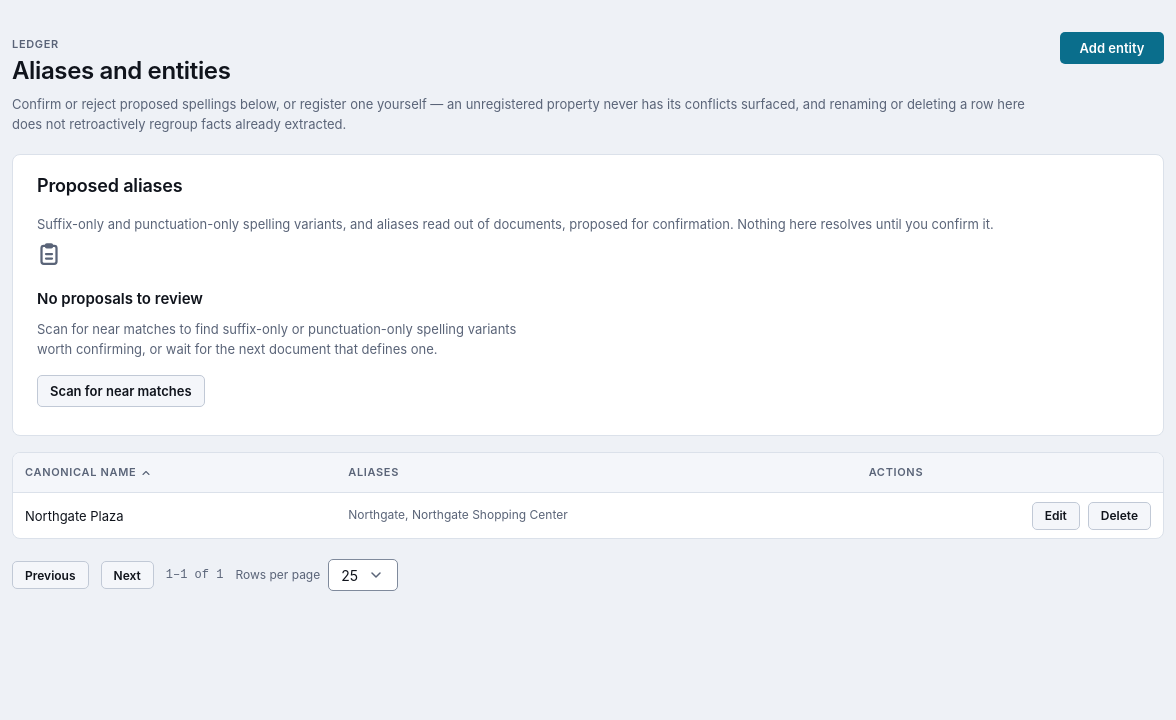
CanonicalEntitiesPage › shows a load error verbatim, but leaves an already-loaded row on screen on a later refresh failure
Expected: the text "Northgate Plaza" is shown, [13,493,336,538]
Click the button with aria-label "Sort by Canonical name, sorted ascending" at (89,473), box [25,465,152,480]
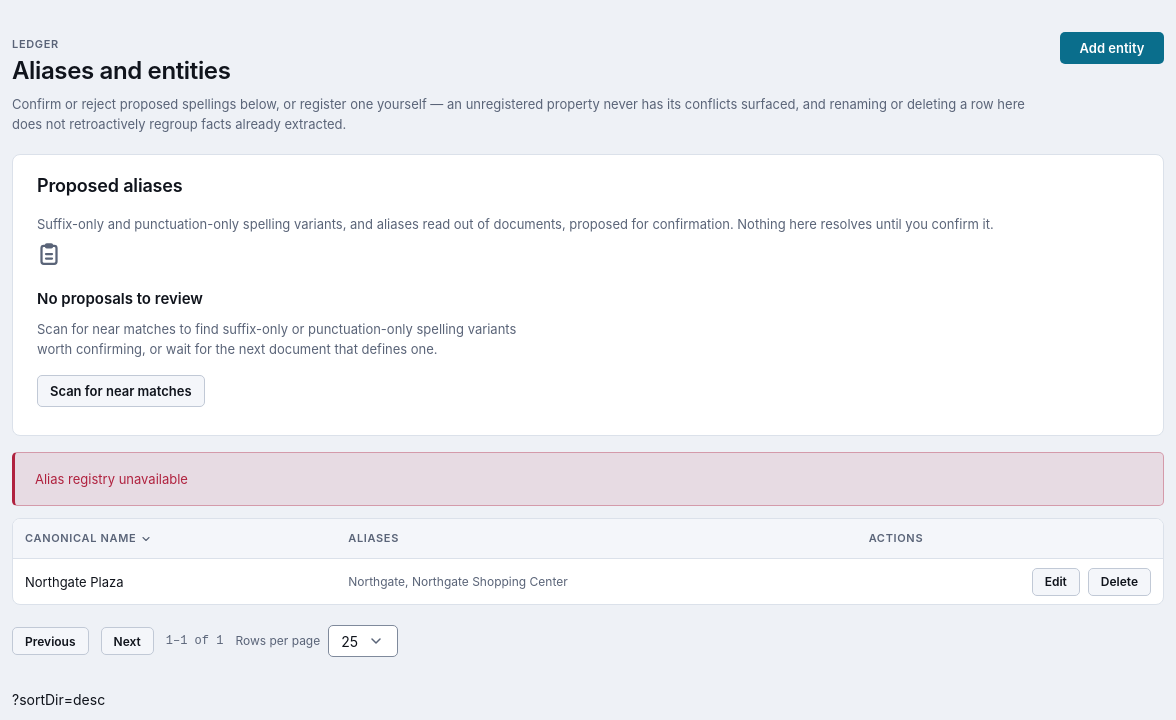
Expected: the text "Northgate Plaza" is shown, [13,559,336,604]
Result: the message reads "Alias registry unavailable" at [35,471,188,487]
